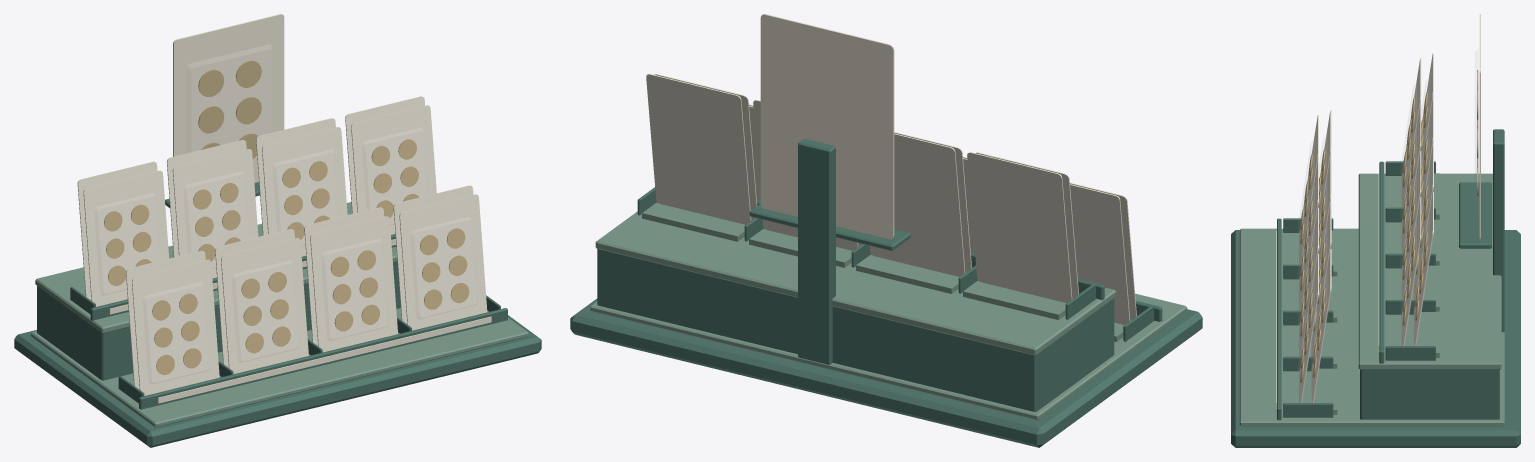
3 views of the same model, side by side, from view 1: azimuth 30°, elevation 25°; view 2: azimuth 150°, elevation 25°; view 3: azimuth 270°, elevation 25° (orthographic). The views are drawn at different scales.
Parts seen in each view (by area): view 1: BATCH_Blankivorycard, BATCH_Sagepolymerandroundpatches; view 2: BATCH_Sagepolymerandroundpatches, BATCH_Blankivorycard; view 3: BATCH_Sagepolymerandroundpatches, BATCH_Blankivorycard, BATCH_ClearformedPET.
Part boxes in pixels (x1=…): BATCH_Blankivorycard: x1=77, y1=14, x2=491, y2=403; BATCH_Sagepolymerandroundpatches: x1=14, y1=60, x2=541, y2=447; BATCH_Sagepolymerandroundpatches: x1=570, y1=138, x2=1202, y2=447; BATCH_Blankivorycard: x1=646, y1=14, x2=1136, y2=324; BATCH_Sagepolymerandroundpatches: x1=1231, y1=70, x2=1520, y2=447; BATCH_Blankivorycard: x1=1276, y1=14, x2=1480, y2=408; BATCH_ClearformedPET: x1=1300, y1=126, x2=1426, y2=350.
Size of the model in its own units: 0.5 by 0.35 by 0.3.
